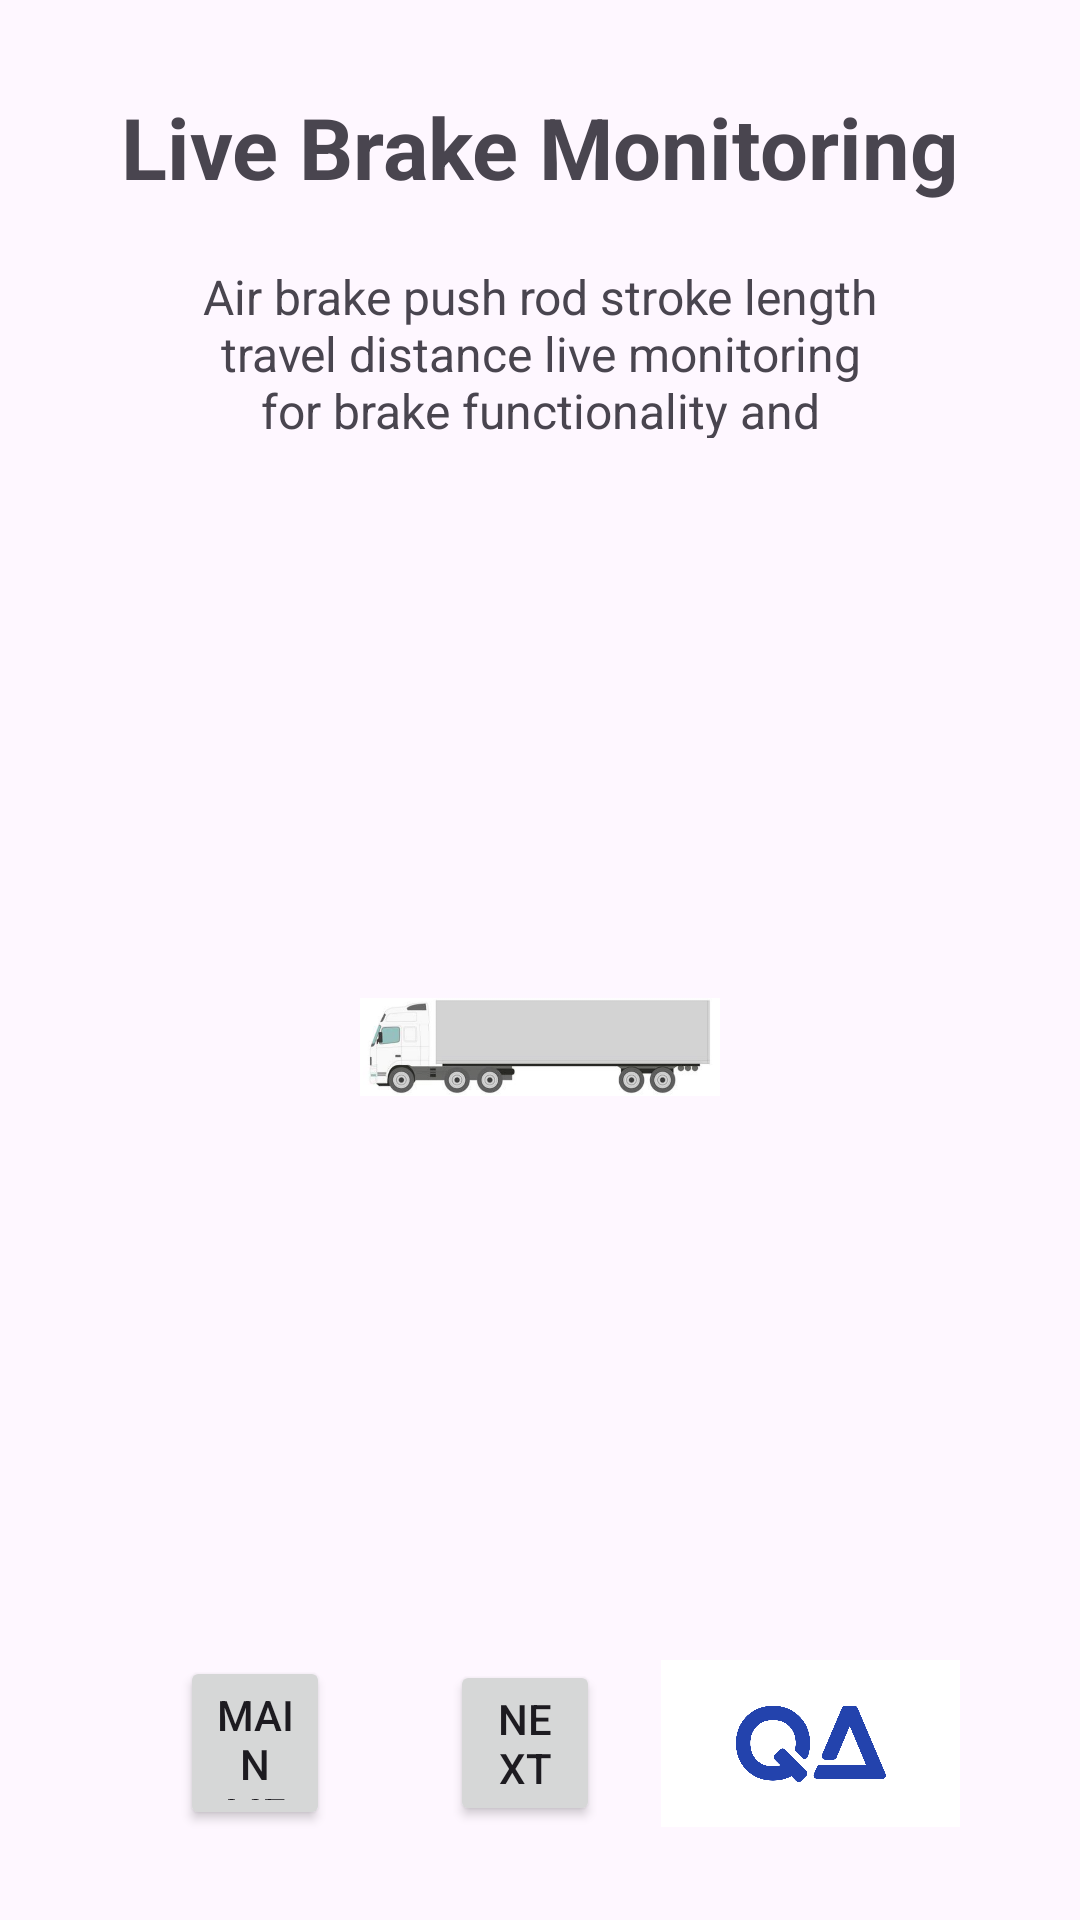

Named icons in this screenshot (1080 × 1920) and their centers, [x,y]:
Truck image that show the breaks location to be tested: [540,1046]
